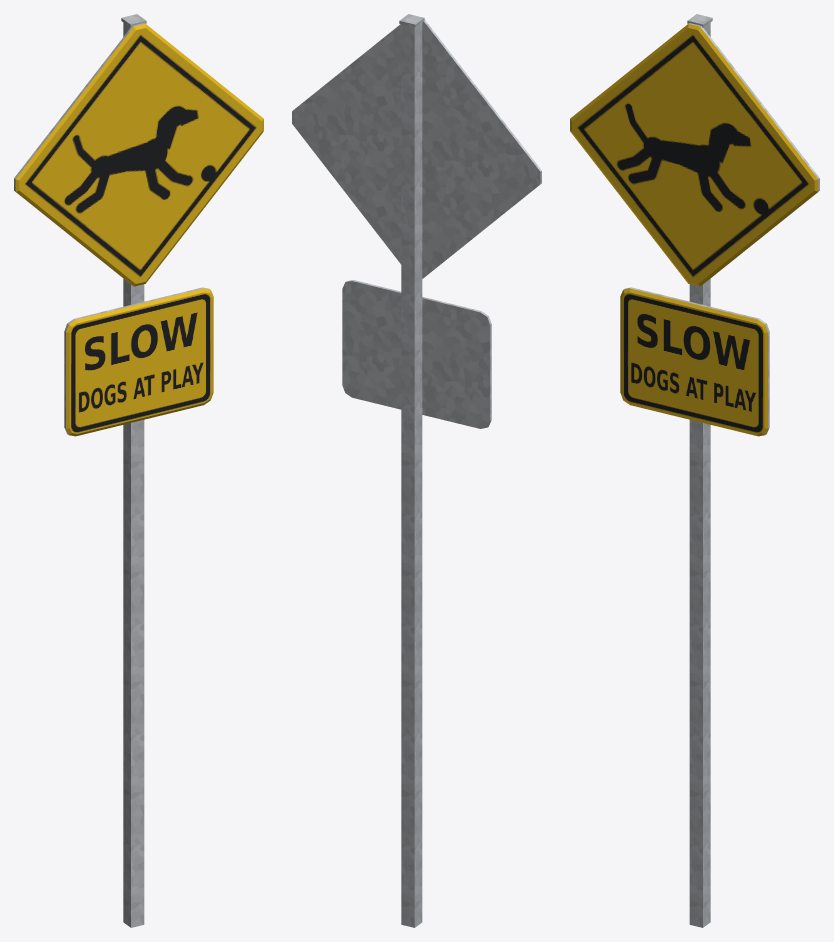
The model's file is slow_dogs_at_play.gltf.
3 views of the same model, side by side, from view 1: azimuth 30°, elevation 25°; view 2: azimuth 150°, elevation 25°; view 3: azimuth 330°, elevation 25° (orthographic).
Parts seen in each view (by area): view 1: slow_dogs_at_play; view 2: slow_dogs_at_play; view 3: slow_dogs_at_play.
Boxes of the visible parts, x1,y1,x2,y2 form: slow_dogs_at_play: (14, 14, 263, 927); slow_dogs_at_play: (292, 14, 541, 927); slow_dogs_at_play: (570, 14, 819, 927).
Bounding box in the file's own units: 1.18 × 4.1 × 0.0943.
2 materials, 2 textured.
